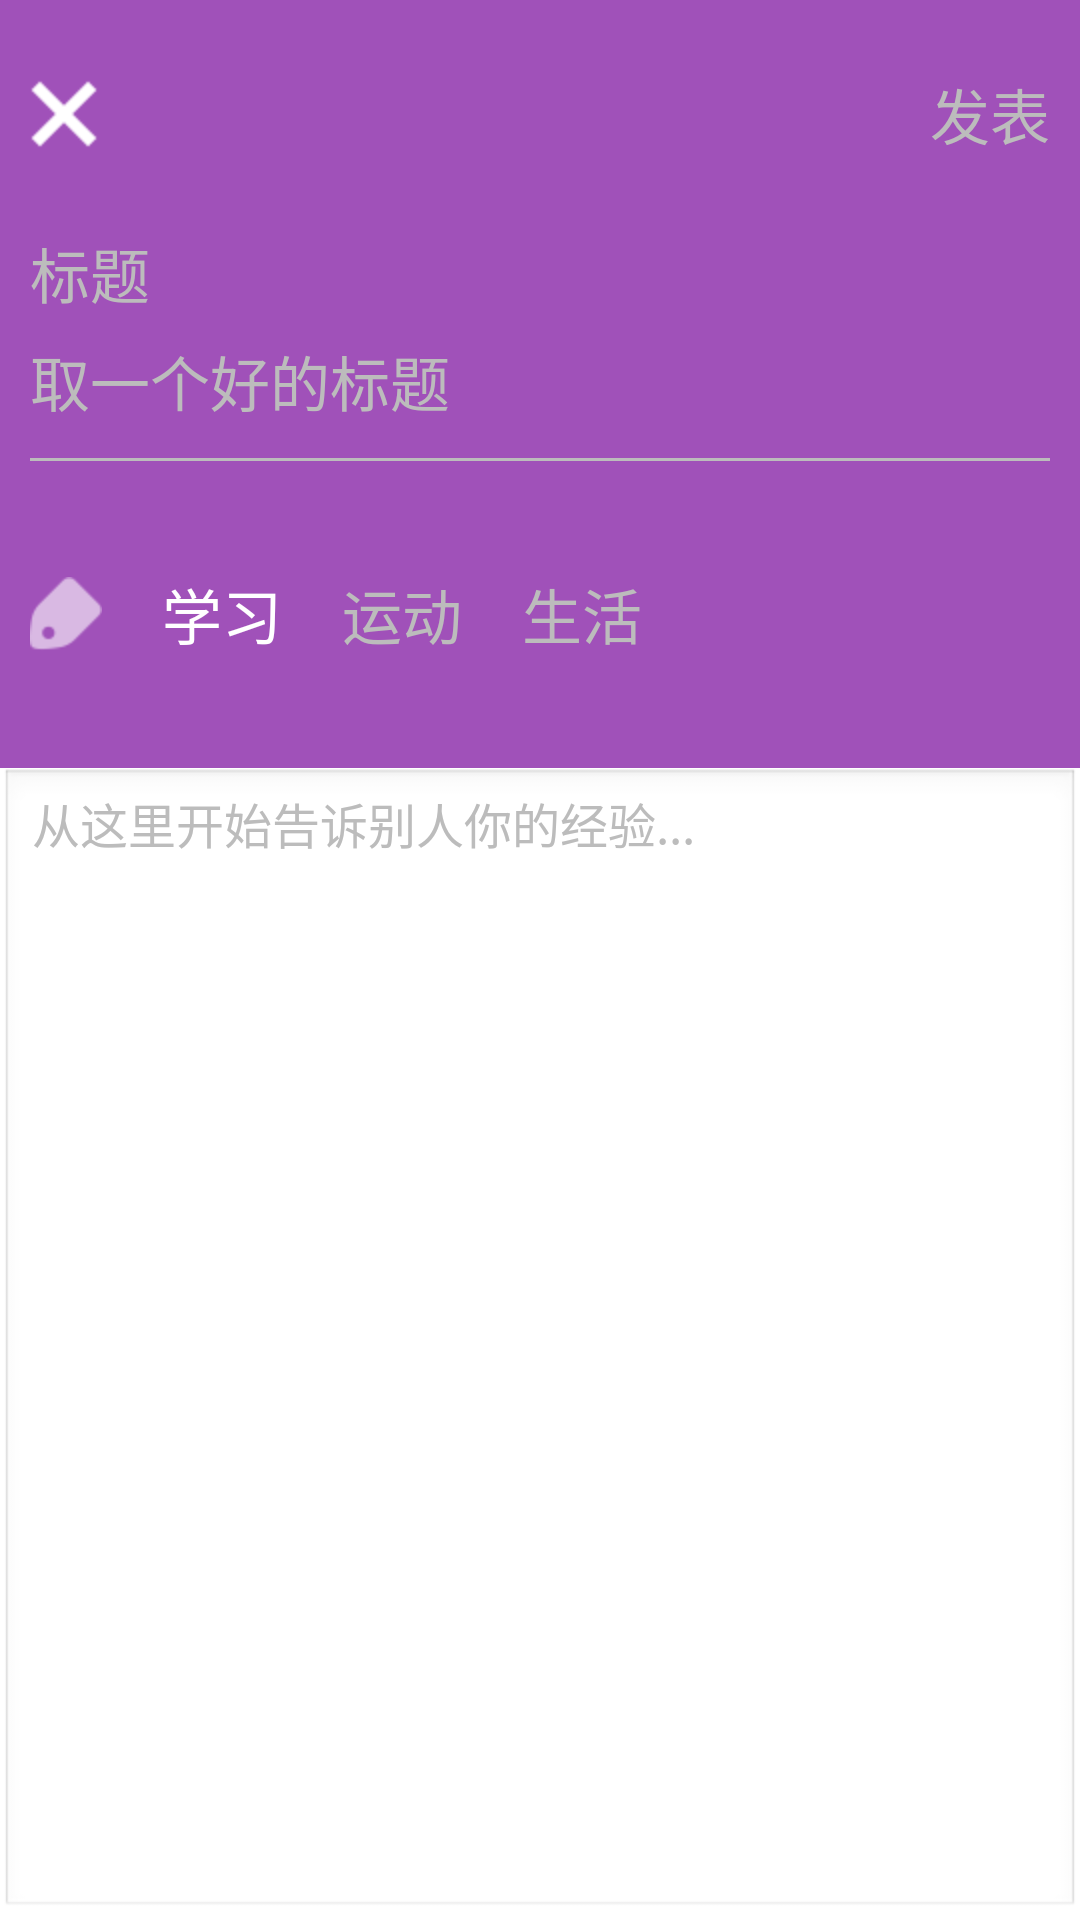

Where to tap for icons on this 1080*1920 app screen, as [x,y]:
tag: [66,613]
